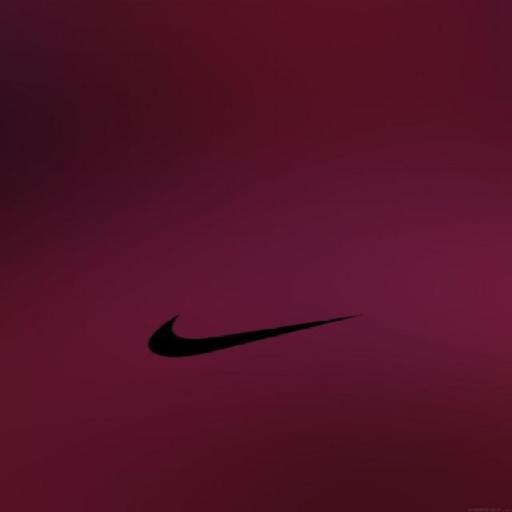Nike: (140, 305, 378, 363)
